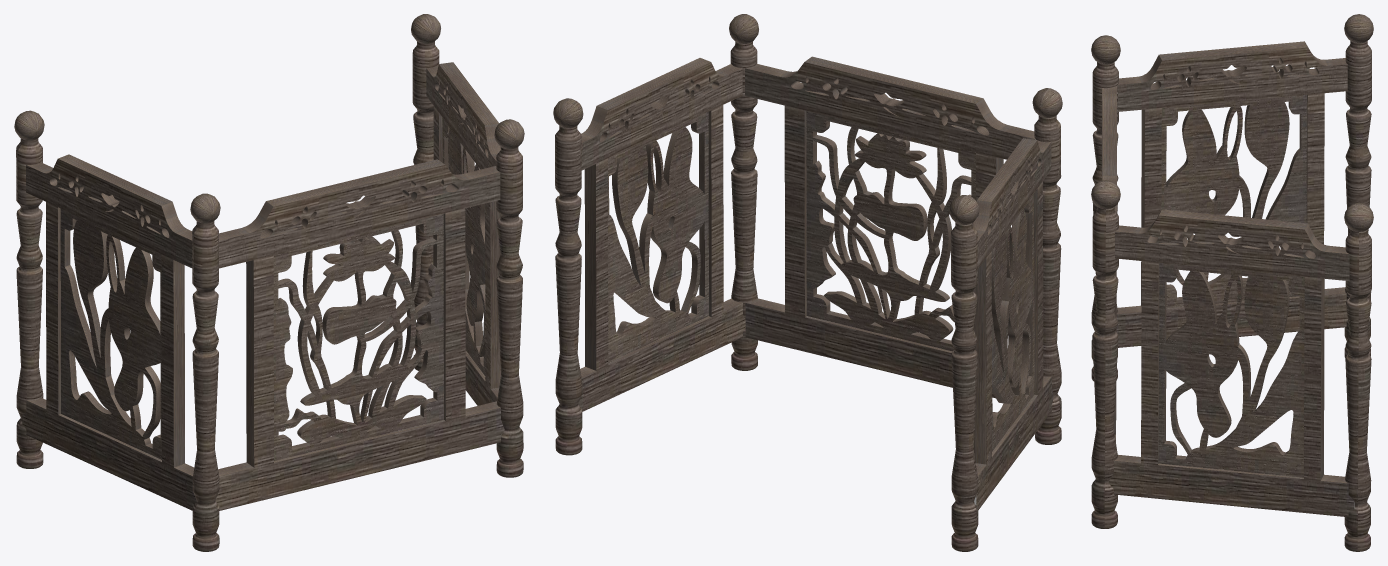
Rendered from qinjia.fbx.
3 renders of one model, left to right at view 1: azimuth 30°, elevation 25°; view 2: azimuth 150°, elevation 25°; view 3: azimuth 270°, elevation 25°, orthographic. The views are drawn at different scales.
Parts seen in each view (by area): view 1: 物件_182, 物件_225, 物件_92, 物件_135, 物件_493, 物件_494, 物件_491, 物件_48, 物件_492, 物件_1, 物件_126, 物件_80 (+7 smaller); view 2: 物件_181, 物件_224, 物件_48, 物件_1, 物件_492, 物件_491, 物件_92, 物件_494, 物件_135, 物件_493, 物件_86, 物件_120 (+7 smaller); view 3: 物件_49, 物件_2, 物件_91, 物件_134, 物件_494, 物件_492, 物件_491, 物件_493, 物件_222, 物件_132, 物件_74, 物件_86 (+1 smaller).
Boxes of the visible parts, x1,y1,x2,y2 form: 物件_182: [215, 165, 504, 510]; 物件_225: [273, 214, 443, 460]; 物件_92: [22, 159, 196, 510]; 物件_135: [60, 208, 161, 459]; 物件_493: [190, 193, 220, 551]; 物件_494: [494, 119, 524, 477]; 物件_491: [14, 110, 44, 468]; 物件_48: [425, 64, 497, 405]; 物件_492: [411, 14, 440, 370]; 物件_1: [442, 118, 485, 375]; 物件_126: [173, 260, 184, 467]; 物件_80: [490, 201, 500, 388]; 物件_181: [745, 62, 1035, 398]; 物件_224: [806, 111, 976, 351]; 物件_48: [578, 62, 745, 411]; 物件_1: [608, 111, 708, 362]; 物件_492: [553, 98, 583, 455]; 物件_491: [949, 195, 979, 551]; 物件_92: [976, 140, 1053, 509]; 物件_494: [729, 14, 758, 370]; 物件_135: [991, 194, 1034, 451]; 物件_493: [1032, 88, 1062, 444]; 物件_86: [584, 164, 596, 370]; 物件_120: [973, 258, 986, 464]; 物件_49: [1108, 215, 1354, 517]; 物件_2: [1158, 262, 1304, 477]; 物件_91: [1116, 47, 1347, 347]; 物件_134: [1161, 95, 1306, 308]; 物件_494: [1091, 180, 1120, 528]; 物件_492: [1344, 202, 1373, 551]; 物件_491: [1344, 14, 1373, 357]; 物件_493: [1091, 35, 1120, 381]; 物件_222: [1102, 94, 1116, 175]; 物件_132: [1159, 41, 1307, 60]; 物件_74: [1159, 209, 1307, 229]; 物件_86: [1320, 278, 1324, 480].
Bounding box in the file's own units: 64 × 50.97 × 38.
Materials: 1 (1 with a texture image).
